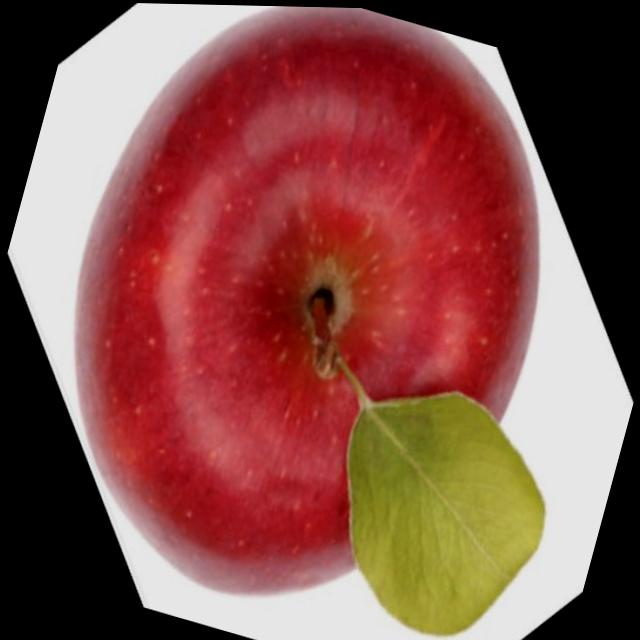Apple: (6, 0, 603, 640)
